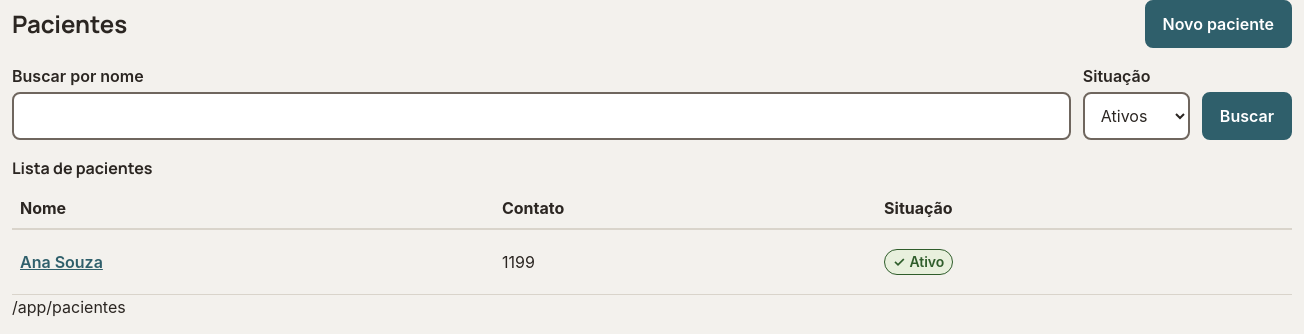
Test case: Lista de pacientes (PAC-02) › busca e filtro de inativos vão para a URL e para a API
Expected: the link "Ana Souza" is shown, [20,252,103,272]
In the search field labelled "Buscar por nome": (541, 116) [12,92,1071,140], type " ana "
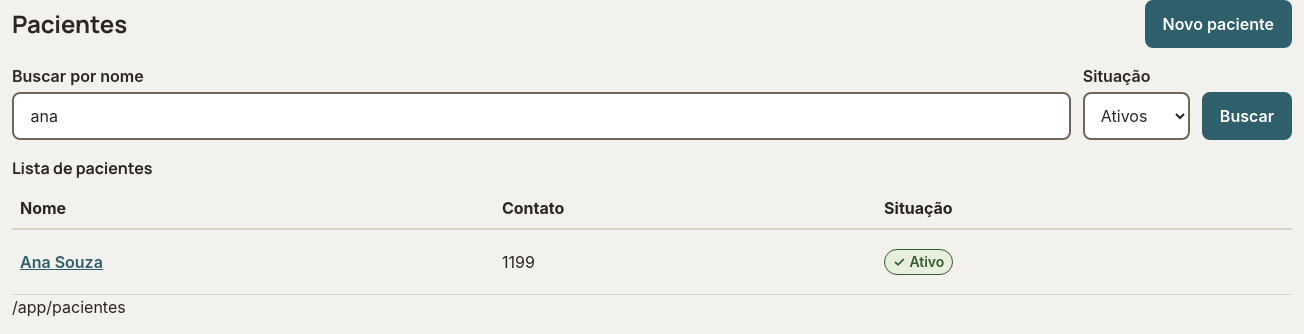
Click the button "Buscar": (1247, 116) [1202,92,1292,140]
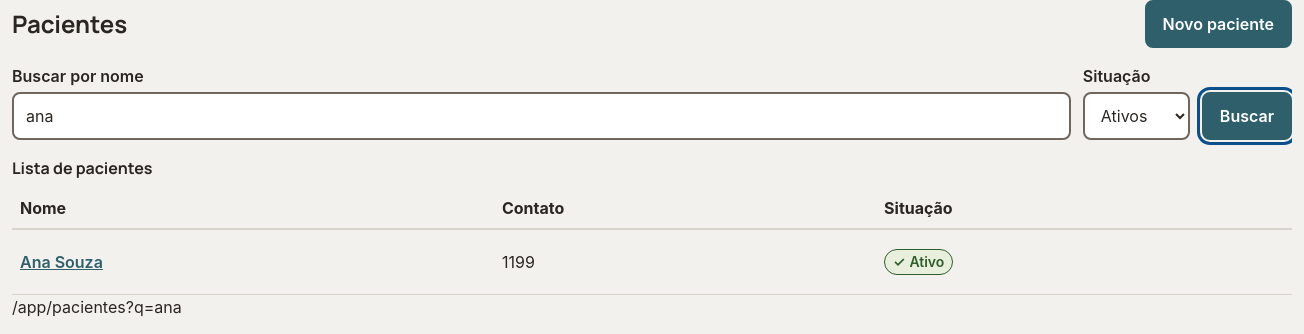
Expected: the text with test id "loc" reads "/app/pacientes?q=ana", [12,297,182,317]
Select "Inativos" in the dropdown labelled "Situação": (1136, 116) [1083,92,1190,140]
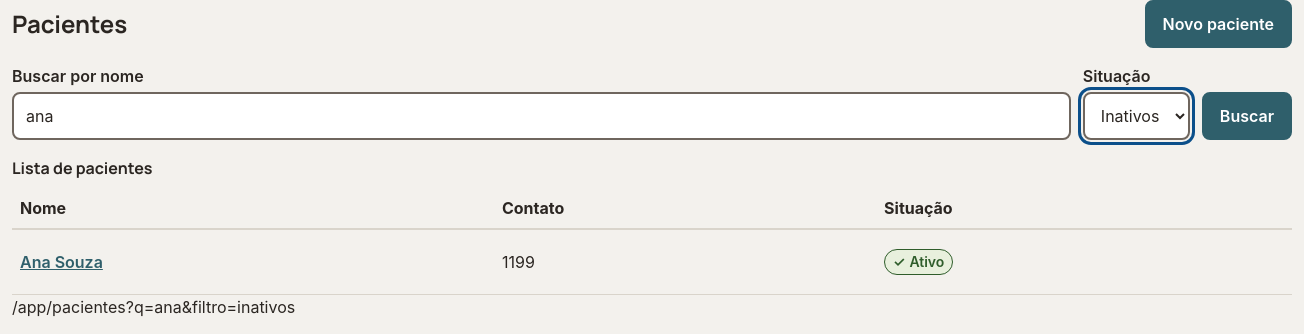
Expected: the text with test id "loc" reads "/app/pacientes?q=ana&filtro=inativos", [12,297,295,317]
